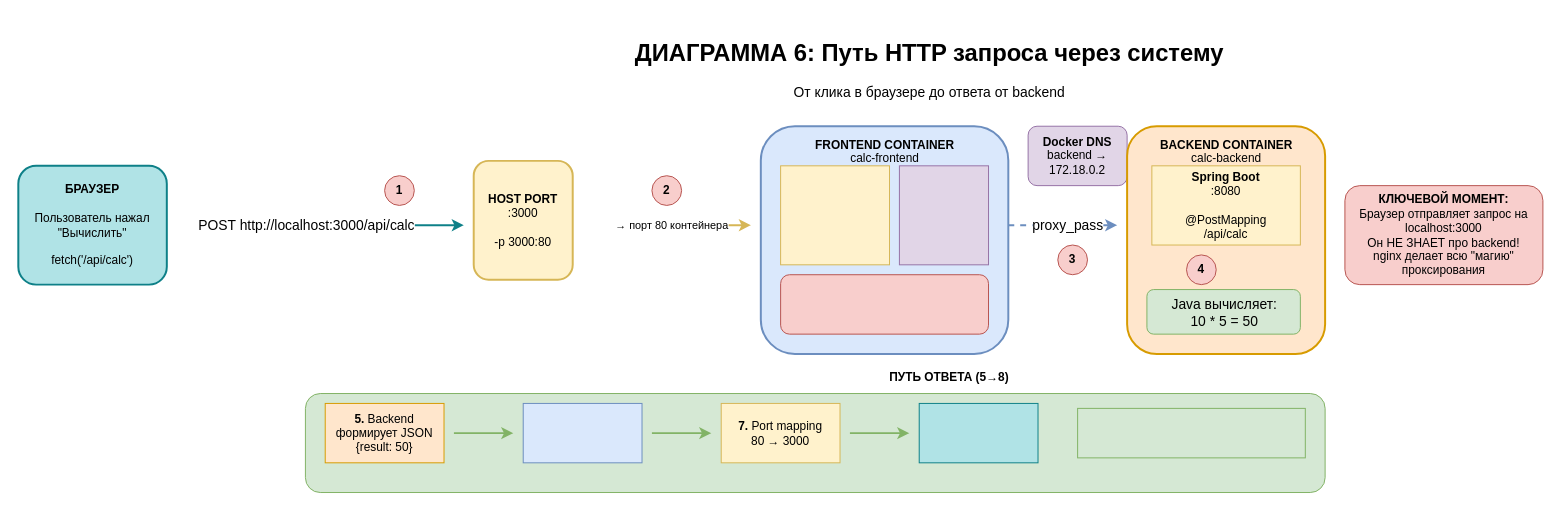
Some shapes in this 1560 by 510 pixel diagram are drawn without their labels. Here are the shapes that lost their labels. From the top down, the centre of each, then its label:
the point at 835,215: nginx :80 location /api/ proxy_pass http://backend:8080
the point at 943,215: React (статика) index.html main.js
the point at 884,304: nginx видит /api/ → не отдаёт файл, а проксирует запрос!
the point at 582,432: 6. nginx получает ответ от proxy
the point at 978,432: 8. Браузер показывает "Результат: 50"
the point at 1191,432: ⏱ Всё за ~100-200ms!
